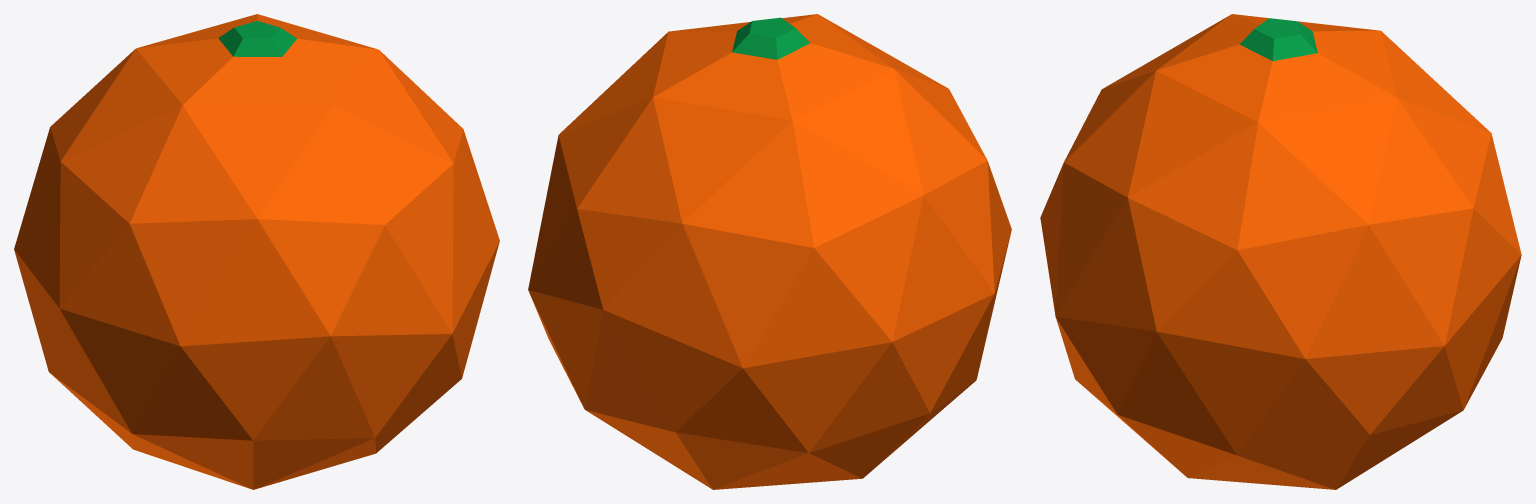
The model's file is orange.fbx.
3 renders of one model, left to right at view 1: azimuth 30°, elevation 25°; view 2: azimuth 150°, elevation 25°; view 3: azimuth 270°, elevation 25°, orthographic.
Parts seen in each view (by area): view 1: orange; view 2: orange; view 3: orange.
Boxes of the visible parts, x1,y1,x2,y2 form: orange: (14,14,499,489); orange: (528,14,1011,489); orange: (1040,14,1521,489).
Size of the model in its own units: 150 by 150 by 147.
